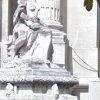Statue: (9, 3, 58, 59)
